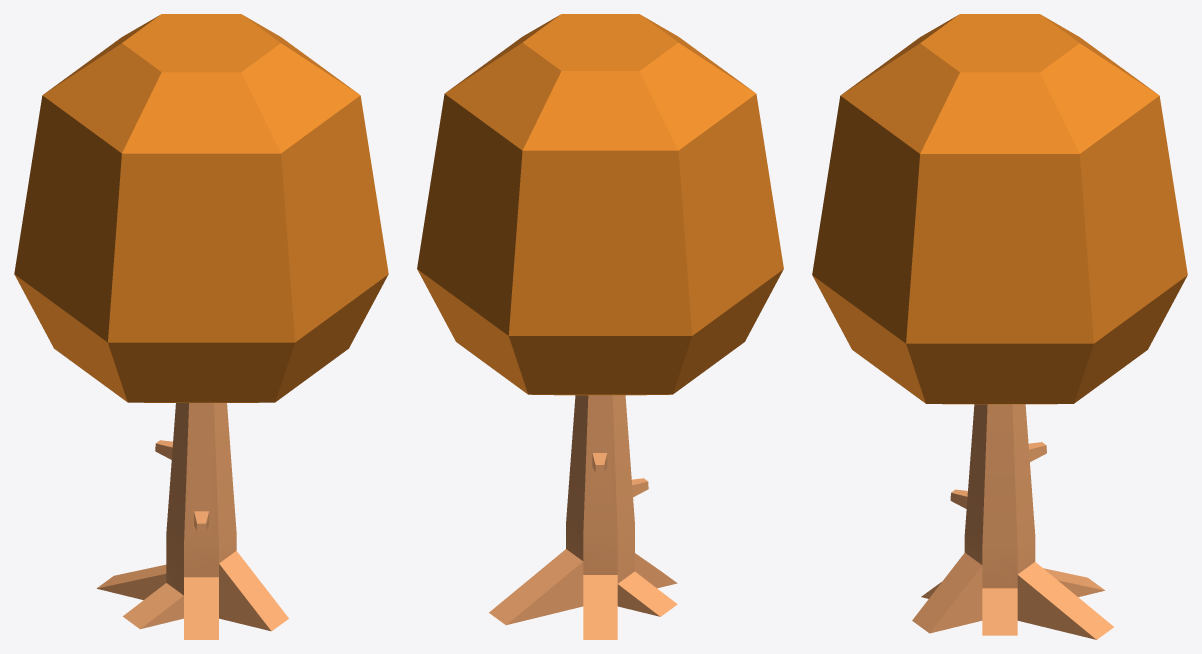
Rendered from tree_oak_fall.fbx.
3 views of the same model, side by side, from view 1: azimuth 30°, elevation 25°; view 2: azimuth 150°, elevation 25°; view 3: azimuth 270°, elevation 25° (orthographic). The views are drawn at different scales.
Parts seen in each view (by area): view 1: tree_oak_fall; view 2: tree_oak_fall; view 3: tree_oak_fall.
Boxes of the visible parts, box(x1,y1,x2,y2) form: tree_oak_fall: box(14, 14, 388, 639); tree_oak_fall: box(417, 14, 783, 639); tree_oak_fall: box(812, 14, 1187, 639).
Bounding box in the file's own units: 6.41 × 12.26 × 7.4.
